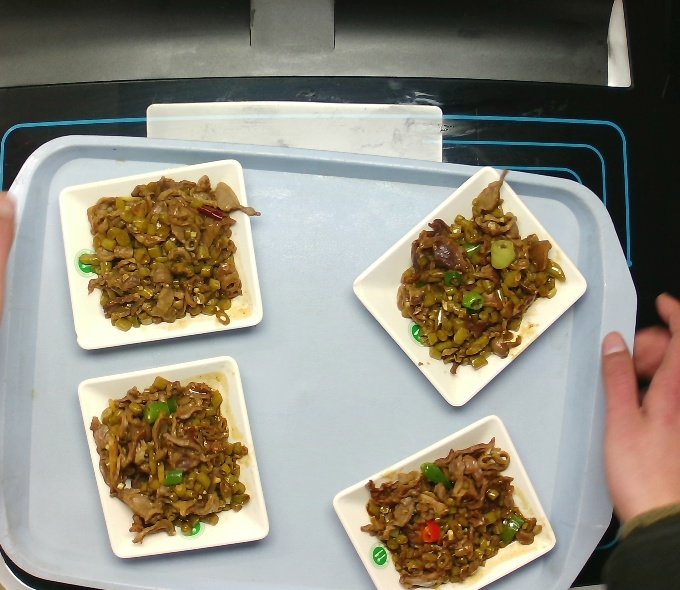wcq-JiZhen: (387, 168, 573, 381), (75, 171, 263, 333), (357, 433, 543, 590), (86, 373, 254, 545)
